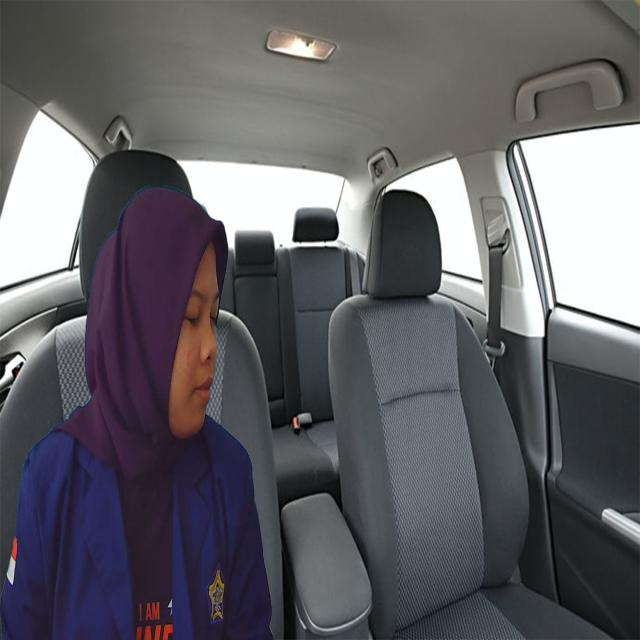no-seatbelt: (154, 209, 237, 445)
